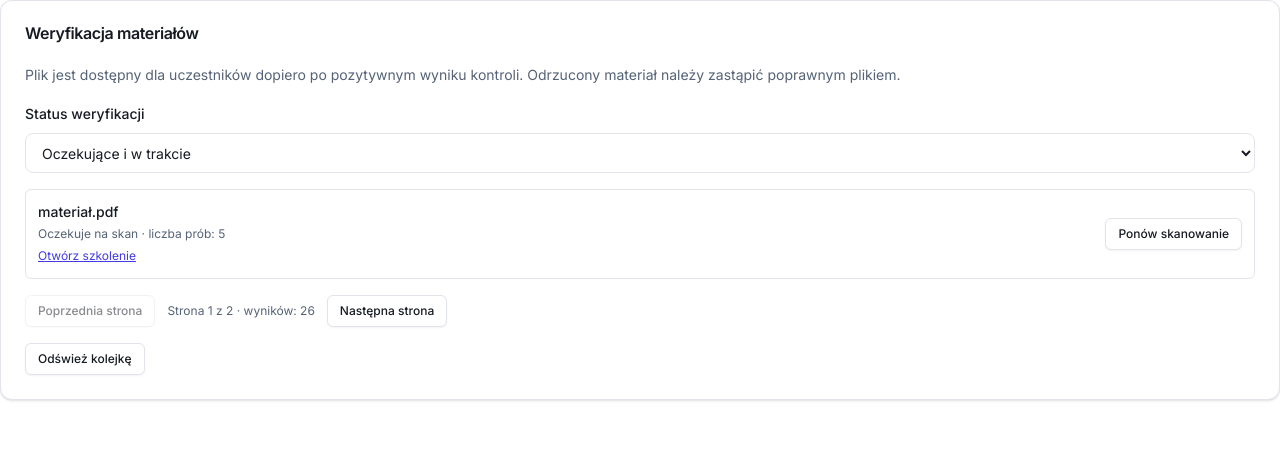
Test case: scan queue interaction › recovers from transport failure without leaving controls pending
Expected: the text "materiał.pdf" is shown, [38, 203, 119, 220]
Step 1. Click the button "Ponów skanowanie" → (1174, 234), box [1105, 218, 1242, 250]
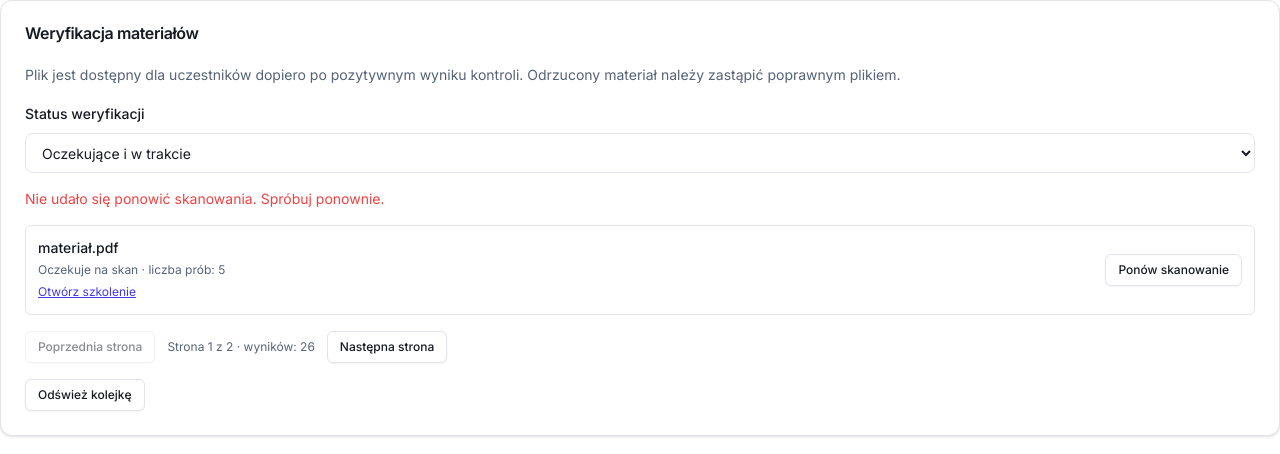
Expected: the button "Ponów skanowanie" is enabled, [1105, 254, 1242, 286]
Expected: the message "Nie udało się ponowić skanowania. Spróbuj ponownie." is shown, [25, 190, 384, 207]
